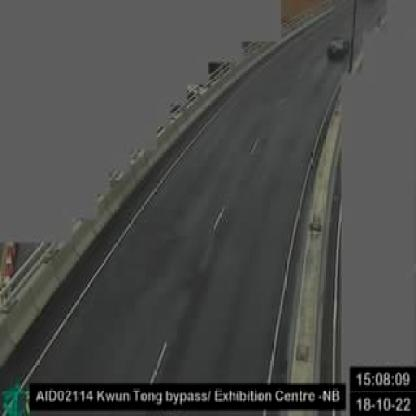Car: (328, 35, 350, 62)
